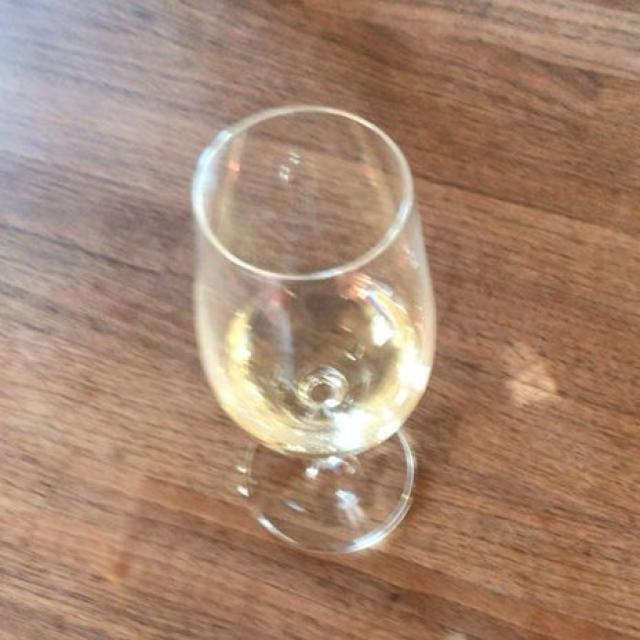wine-white: (214, 277, 418, 454)
